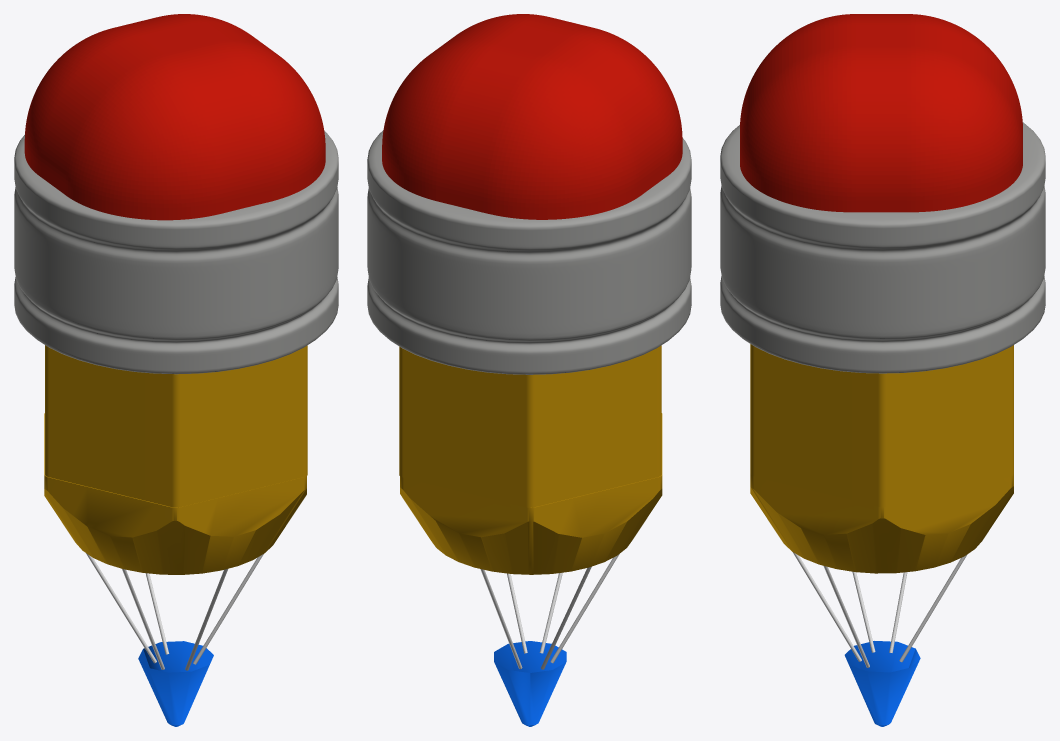
Rendered from character.glb.
3 renders of one model, left to right at view 1: azimuth 30°, elevation 25°; view 2: azimuth 150°, elevation 25°; view 3: azimuth 270°, elevation 25°, orthographic.
Visible parts, largest first — view 1: fix, Cube; view 2: fix, Cube; view 3: fix, Cube.
Boxes of the visible parts, x1=… form: fix: x1=14, y1=131, x2=338, y2=726; Cube: x1=24, y1=14, x2=325, y2=220; fix: x1=367, y1=130, x2=691, y2=726; Cube: x1=382, y1=14, x2=682, y2=219; fix: x1=720, y1=122, x2=1045, y2=726; Cube: x1=740, y1=14, x2=1022, y2=212.
Bounding box in the file's own units: 1.35 × 3.17 × 1.35.
